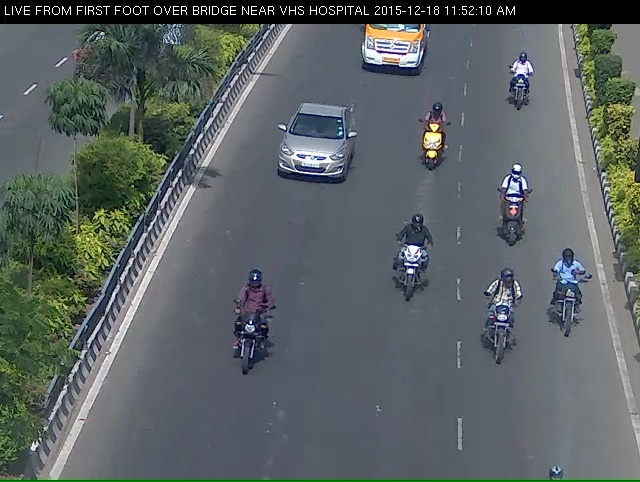Bus: (353, 22, 427, 84)
Car: (263, 116, 354, 207)
Person: (220, 298, 272, 418), (481, 293, 532, 392), (383, 231, 435, 326), (550, 260, 592, 355), (491, 175, 535, 263), (501, 63, 539, 121), (418, 115, 446, 188)
